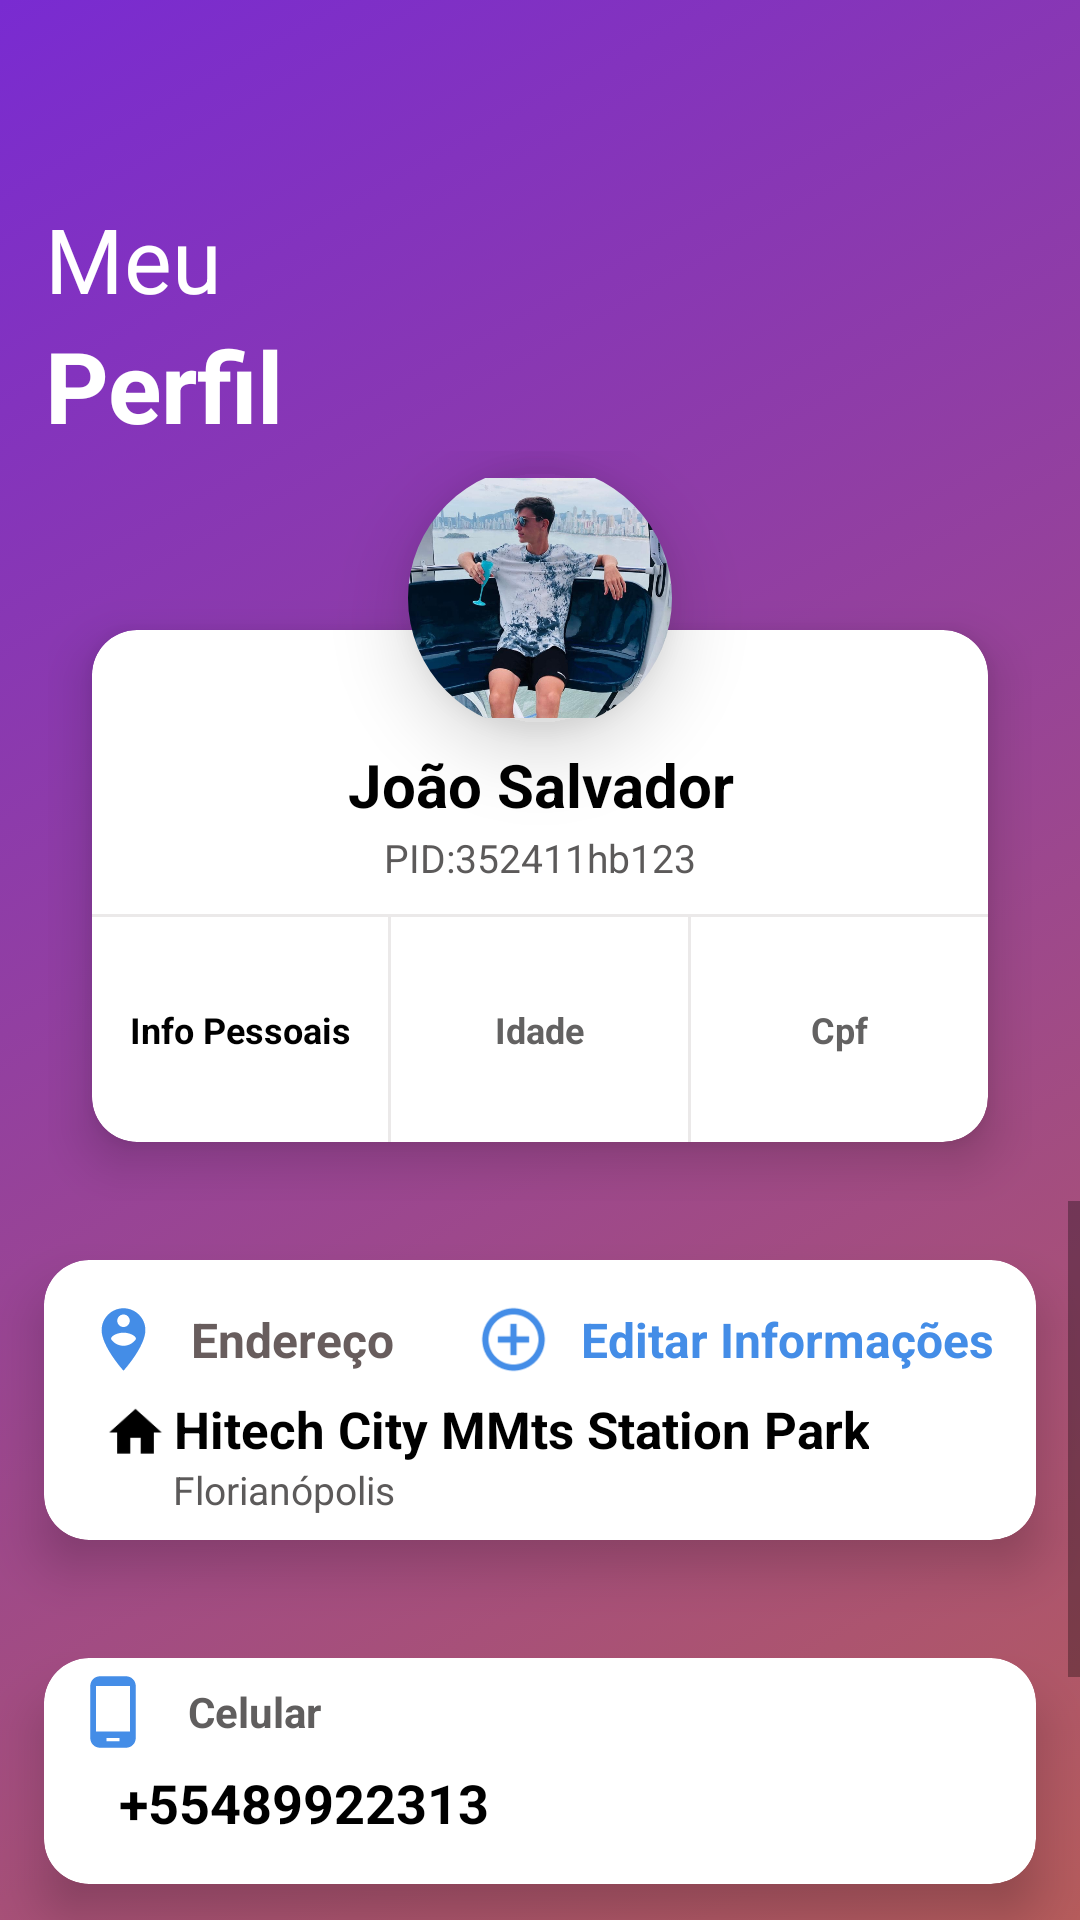

Icons on this 1080×1920 Android screen, each with its box as BBox(x1, y1, x2, y2):
add circle: BBox(482, 1308, 545, 1371)
cellphone: BBox(90, 1676, 136, 1748)
home: BBox(109, 1409, 162, 1454)
person pin circle: BBox(101, 1308, 146, 1371)
